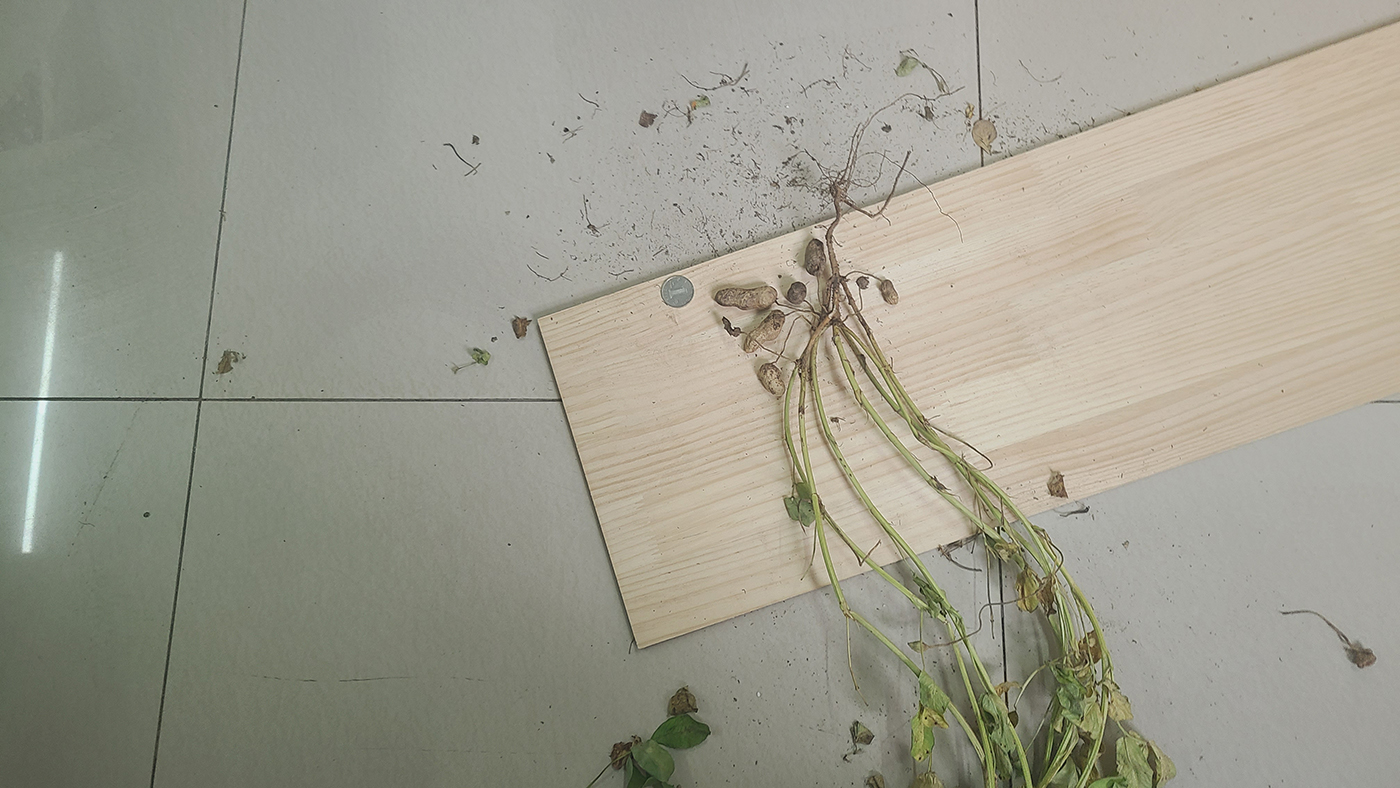h: (758, 362, 787, 398)
l: (745, 310, 787, 353), (714, 286, 777, 311), (803, 238, 826, 277), (879, 279, 900, 306), (787, 282, 808, 304), (721, 317, 741, 337), (856, 275, 869, 288)
